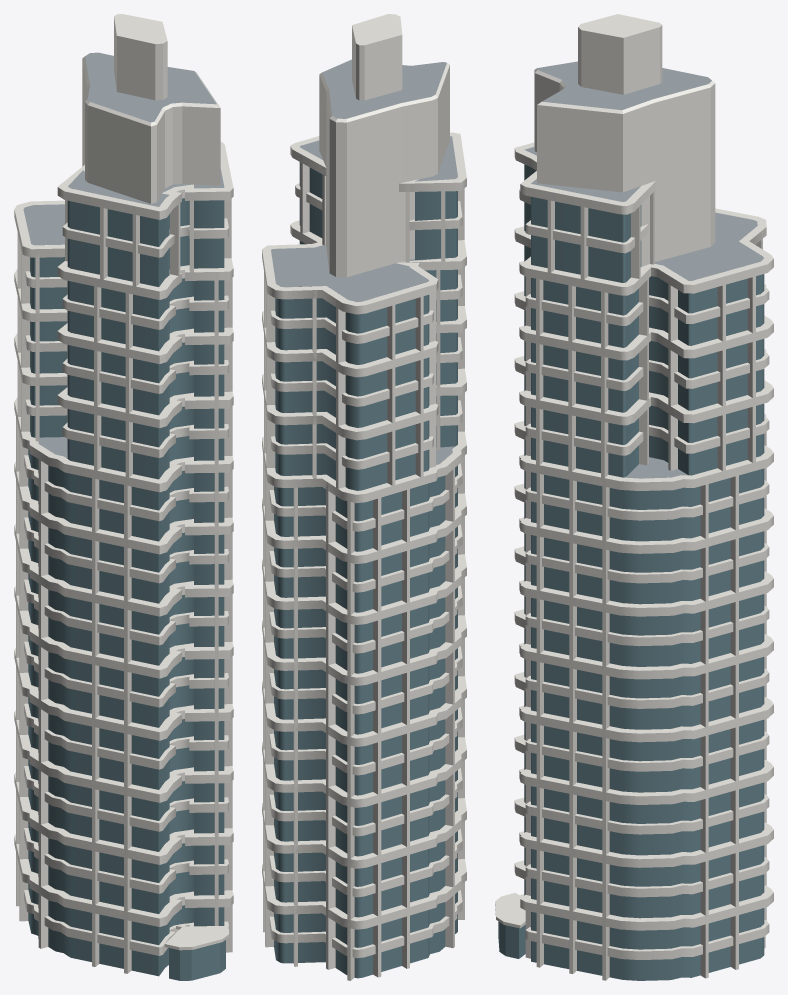
File: frankfurt-grand-tower.glb
3 views of the same model, side by side, from view 1: azimuth 30°, elevation 25°; view 2: azimuth 150°, elevation 25°; view 3: azimuth 270°, elevation 25° (orthographic). The views are drawn at different scales.
Visible parts, largest first — view 1: Grand Tower; view 2: Grand Tower; view 3: Grand Tower.
Part boxes in pixels (x1,y1,x2,y2): Grand Tower: (14,14,233,980); Grand Tower: (262,14,466,980); Grand Tower: (495,14,773,980).
Size of the model in its own units: 36.9 by 180 by 49.7.
